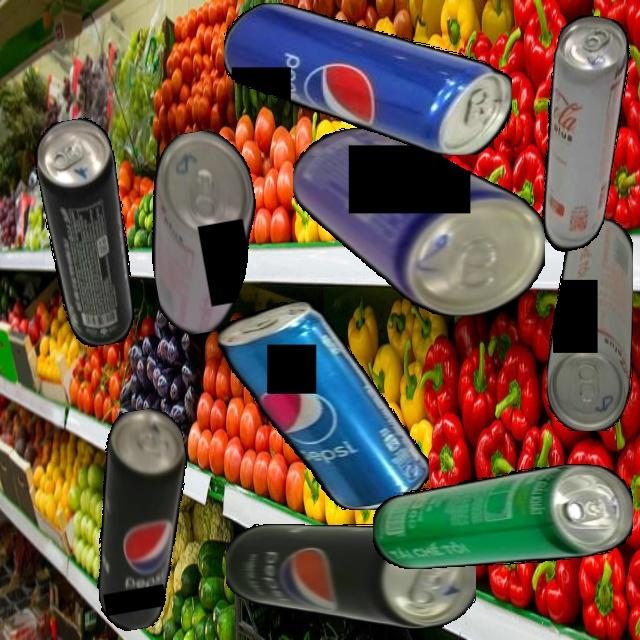debris: (292, 128, 545, 316), (217, 302, 429, 510), (224, 2, 512, 155), (69, 404, 214, 634), (132, 124, 276, 339), (521, 11, 638, 260), (29, 114, 146, 351), (372, 464, 633, 569), (225, 524, 476, 629), (546, 218, 633, 431)
